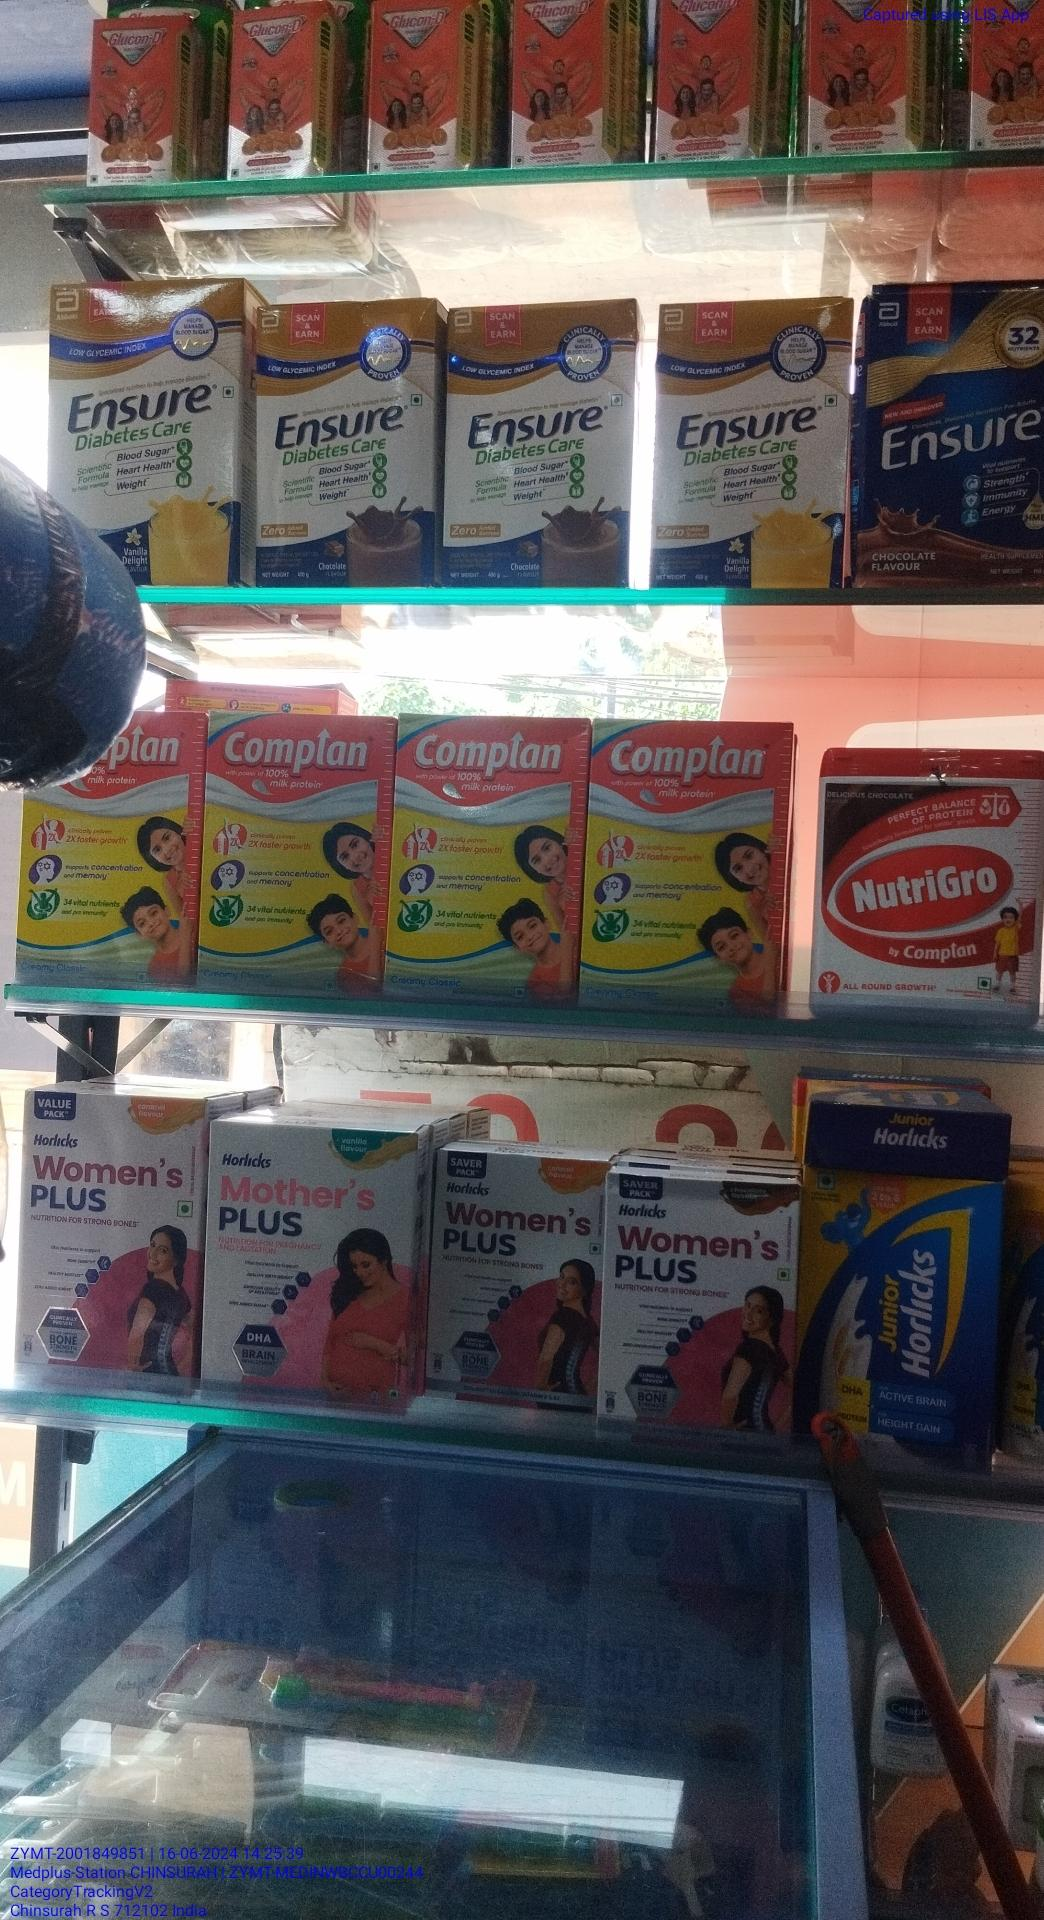COMPLAN_CREAMY_CLASSIC_500_G_PACK: (589, 716, 783, 1023), (395, 704, 575, 1006), (206, 718, 382, 993), (19, 766, 197, 983)
